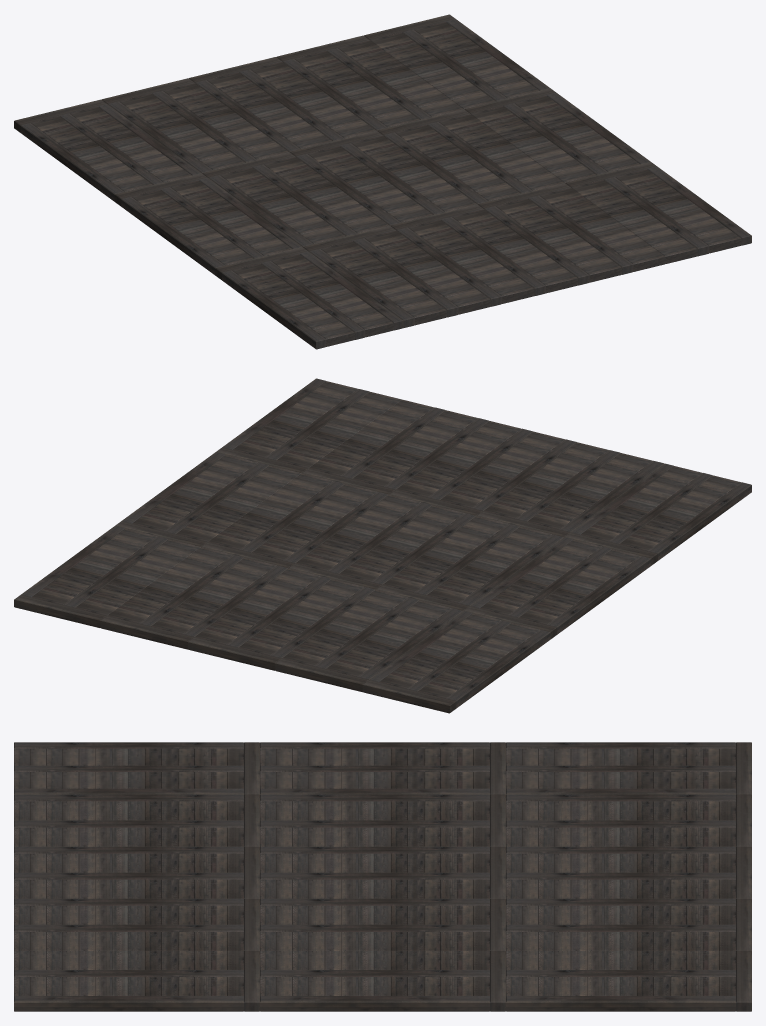
Rendered from SM_Unhyun_Norak_Floor_F001.fbx.
The picture shows the model from 3 angles, top to bottom: view 1: azimuth 30°, elevation 25°; view 2: azimuth 150°, elevation 25°; view 3: azimuth 270°, elevation 25°; orthographic projection. The views are drawn at different scales.
Visible parts, largest first — view 1: SM_Unhyun_Norak_Floor_F001; view 2: SM_Unhyun_Norak_Floor_F001; view 3: SM_Unhyun_Norak_Floor_F001.
Part boxes in pixels (x1,y1,x2,y2): SM_Unhyun_Norak_Floor_F001: (14,14,751,349); SM_Unhyun_Norak_Floor_F001: (14,378,751,713); SM_Unhyun_Norak_Floor_F001: (14,742,751,1011).
Bounding box in the file's own units: 653 × 11.89 × 783.
